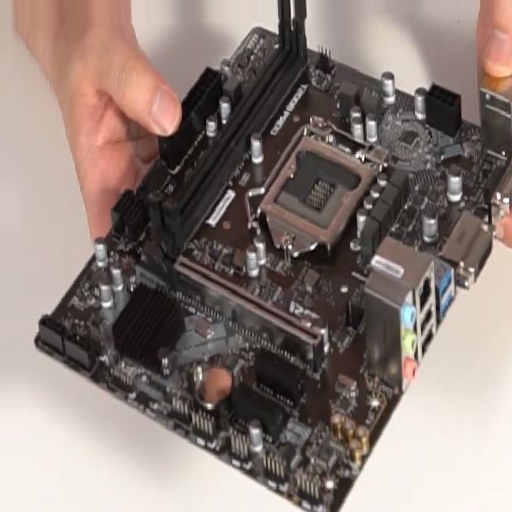CPU: (259, 132, 378, 253)
GPU: (143, 229, 325, 372)
MOTHERBOARD: (32, 27, 509, 511)
RAM: (152, 6, 307, 258)
